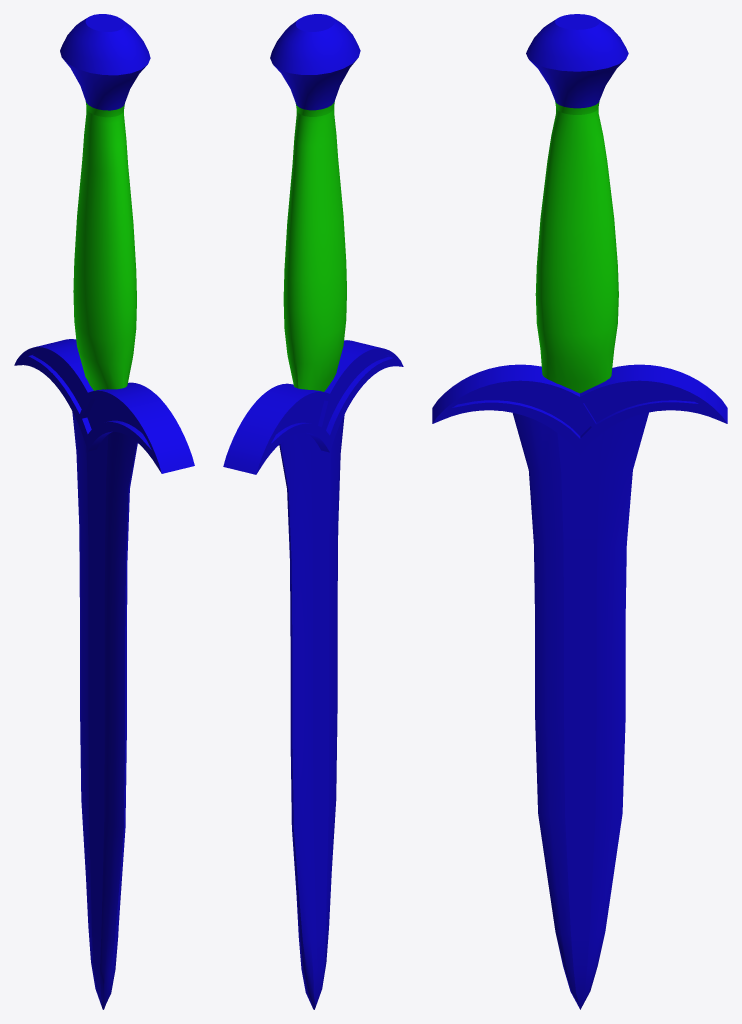
The picture shows the model from 3 angles, left to right: view 1: azimuth 30°, elevation 25°; view 2: azimuth 150°, elevation 25°; view 3: azimuth 270°, elevation 25°; orthographic projection.
Visible parts, largest first — view 1: Handle_low; view 2: Handle_low; view 3: Handle_low.
Boxes of the visible parts, bbox=[...] form: Handle_low: bbox=[14, 14, 194, 1009]; Handle_low: bbox=[223, 14, 403, 1009]; Handle_low: bbox=[432, 14, 727, 1009].
Bounding box in the file's own units: 37.8 × 477 × 129.
